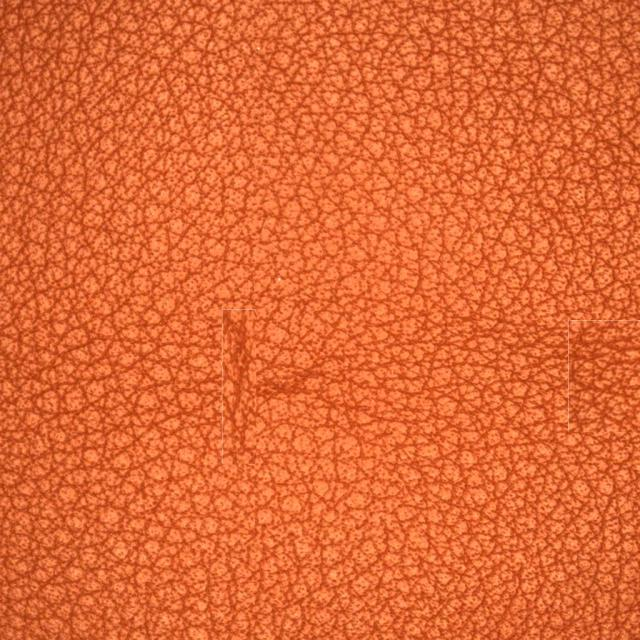Healed Injury: (169, 289, 308, 466), (506, 302, 625, 440)
